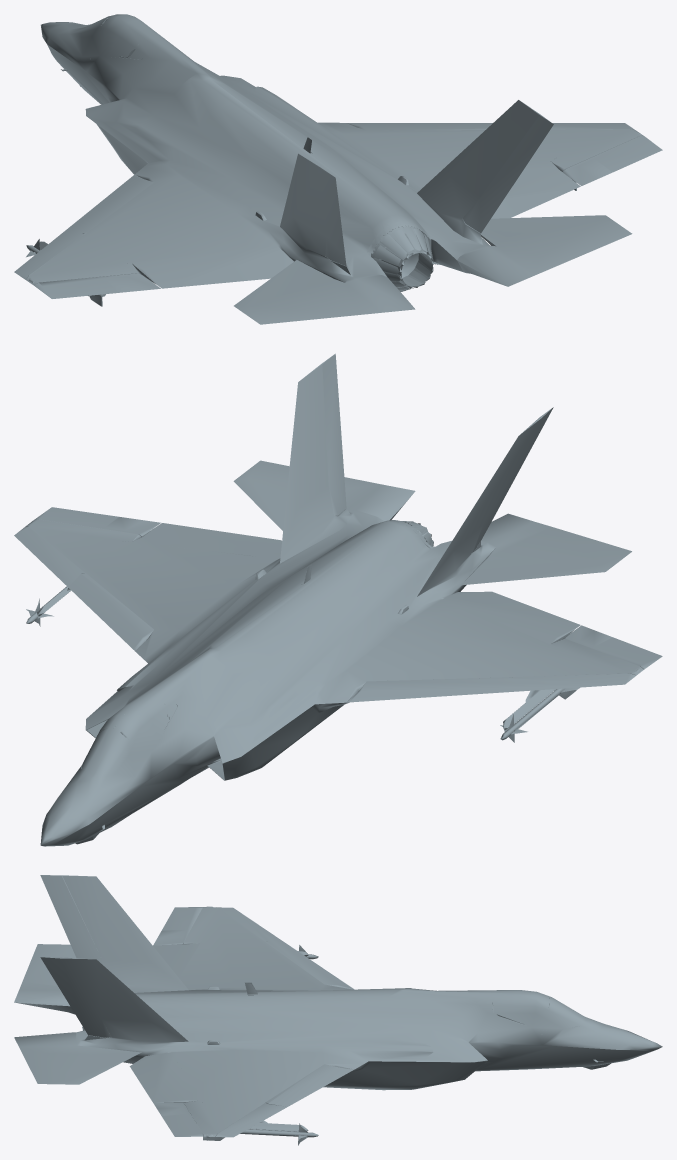
The model's file is model-aircraft-ff-1.glb.
3 views of the same model, one above another, from view 1: azimuth 30°, elevation 25°; view 2: azimuth 150°, elevation 25°; view 3: azimuth 270°, elevation 25° (orthographic). The views are drawn at different scales.
Bounding box in the file's own units: 29.1 × 9.13 × 34.75.
